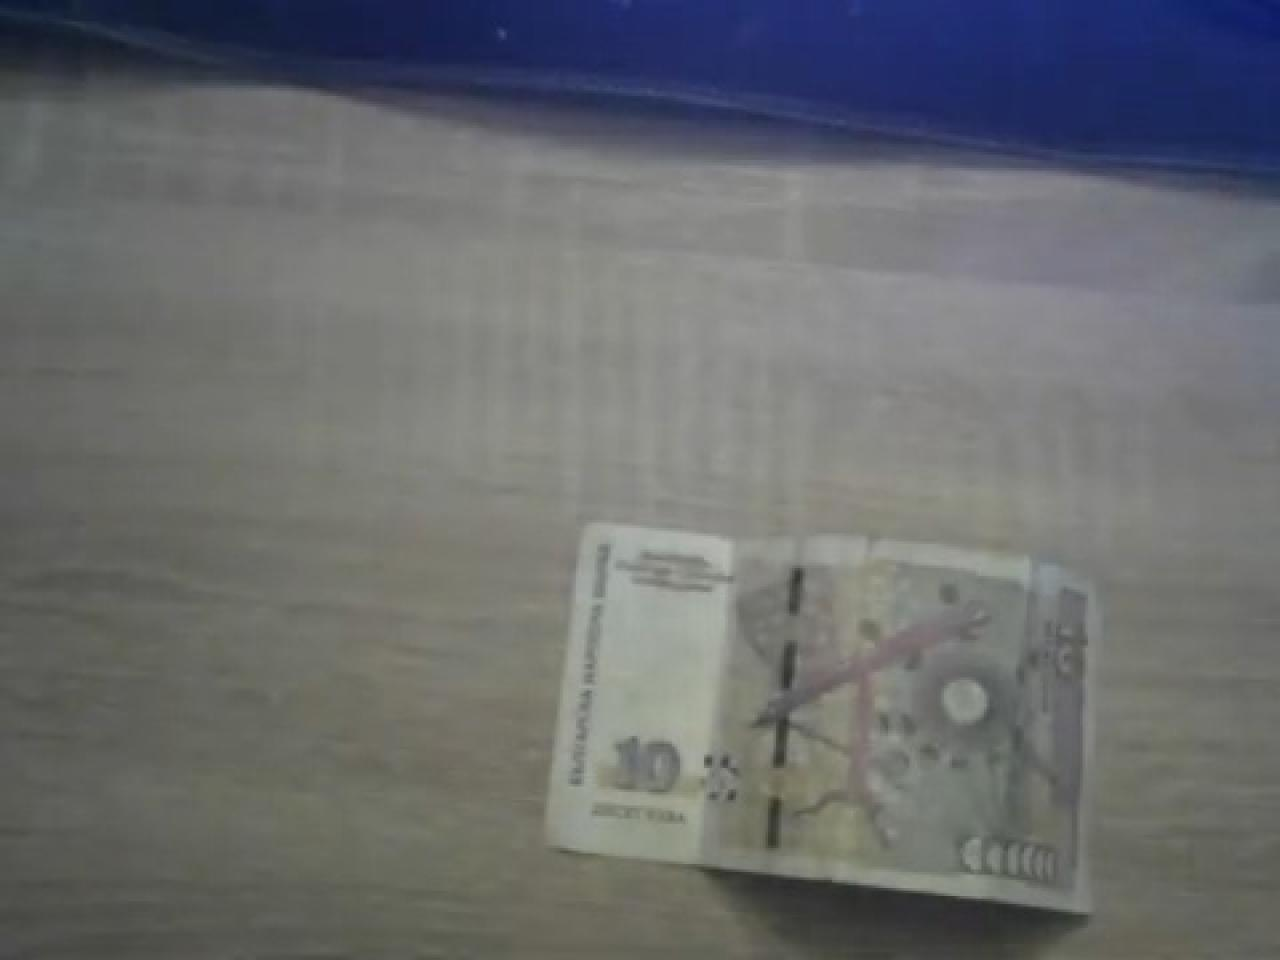10leva: (541, 522, 1102, 923)
